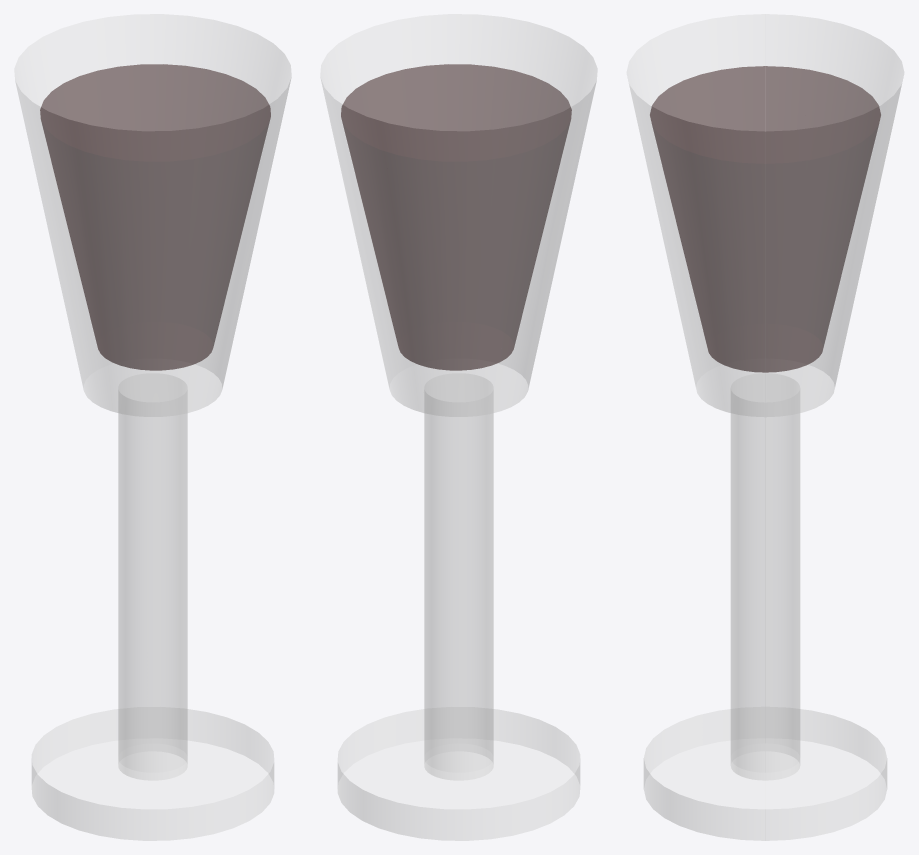
File: state-mlrogc5m-n4t3.glb
3 views of the same model, side by side, from view 1: azimuth 30°, elevation 25°; view 2: azimuth 150°, elevation 25°; view 3: azimuth 270°, elevation 25° (orthographic).
Parts seen in each view (by area): view 1: assetPrim:995aeff211eac-19c73dc9250:wine-glass-bowl, assetPrim:995aeff211eac-19c73dc9250:4be2d15c9b5c28-19c6f847d, assetPrim:995aeff211eac-19c73dc9250:wine-glass-stem, assetPrim:995aeff211eac-19c73dc9250:wine-glass-base; view 2: assetPrim:995aeff211eac-19c73dc9250:wine-glass-bowl, assetPrim:995aeff211eac-19c73dc9250:4be2d15c9b5c28-19c6f847d, assetPrim:995aeff211eac-19c73dc9250:wine-glass-stem, assetPrim:995aeff211eac-19c73dc9250:wine-glass-base; view 3: assetPrim:995aeff211eac-19c73dc9250:wine-glass-bowl, assetPrim:995aeff211eac-19c73dc9250:4be2d15c9b5c28-19c6f847d, assetPrim:995aeff211eac-19c73dc9250:wine-glass-stem, assetPrim:995aeff211eac-19c73dc9250:wine-glass-base.
Part boxes in pixels (x1,y1,x2,y2): assetPrim:995aeff211eac-19c73dc9250:wine-glass-bowl: (14,14,291,416); assetPrim:995aeff211eac-19c73dc9250:4be2d15c9b5c28-19c6f847d: (40,64,270,370); assetPrim:995aeff211eac-19c73dc9250:wine-glass-stem: (118,373,187,780); assetPrim:995aeff211eac-19c73dc9250:wine-glass-base: (32,707,273,840); assetPrim:995aeff211eac-19c73dc9250:wine-glass-bowl: (320,14,597,416); assetPrim:995aeff211eac-19c73dc9250:4be2d15c9b5c28-19c6f847d: (341,64,571,370); assetPrim:995aeff211eac-19c73dc9250:wine-glass-stem: (424,373,493,780); assetPrim:995aeff211eac-19c73dc9250:wine-glass-base: (338,707,579,840); assetPrim:995aeff211eac-19c73dc9250:wine-glass-bowl: (626,14,904,417); assetPrim:995aeff211eac-19c73dc9250:4be2d15c9b5c28-19c6f847d: (650,66,880,372); assetPrim:995aeff211eac-19c73dc9250:wine-glass-stem: (731,373,799,780); assetPrim:995aeff211eac-19c73dc9250:wine-glass-base: (644,707,886,840).
Size of the model in its own units: 0.08 by 0.2275 by 0.08.
